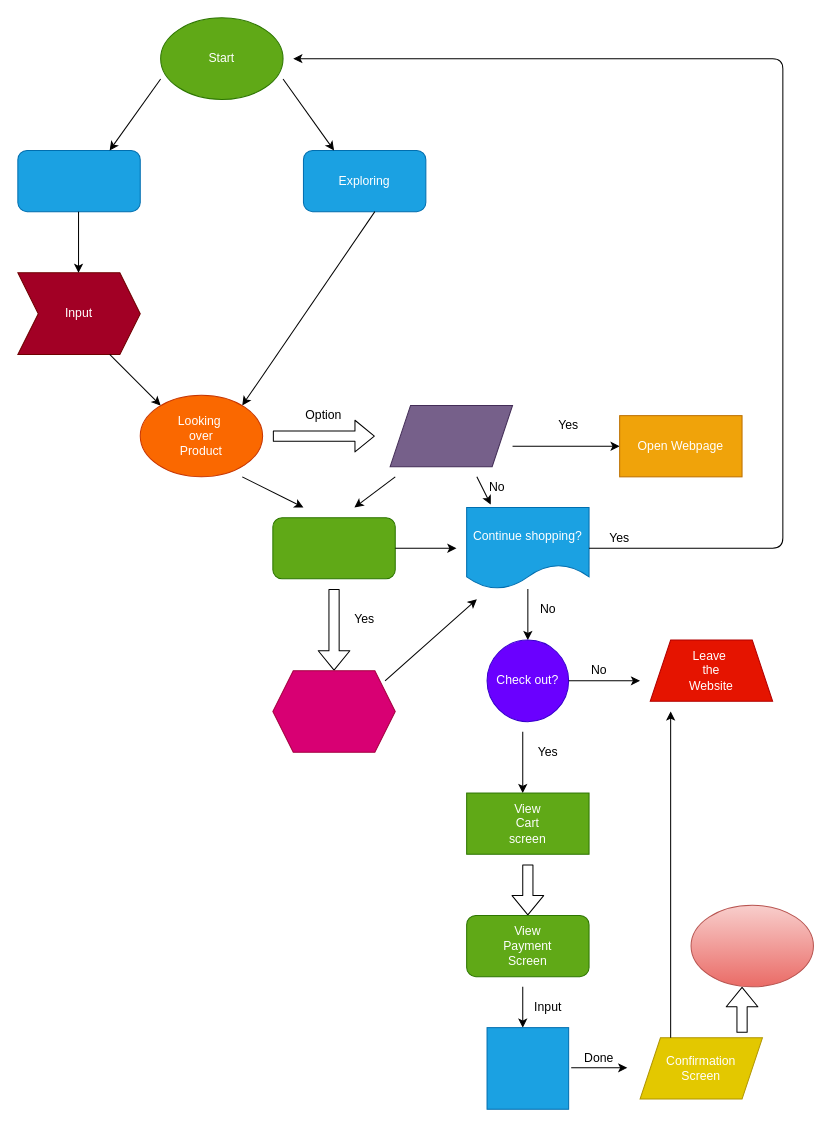
Some shapes in this 831 by 1127 pixel diagram are drawn without their labels. The shapes that lost their labels are listed below. From the top down, each one's centre as x and y in pixels, then its label:
At point (78, 180): "Searching".
At point (451, 435): "Viewing a specific product".
At point (333, 548): "Add item to the cart?".
At point (333, 711): "Confirmation".
At point (751, 945): "Receive an email".
At point (527, 1068): "Payment Infomation".
